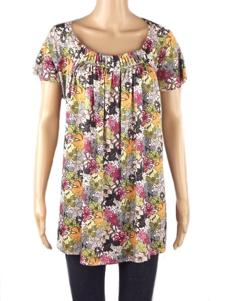C_short blouse: (25, 8, 192, 270)
S_W_pants: (65, 237, 157, 299)
